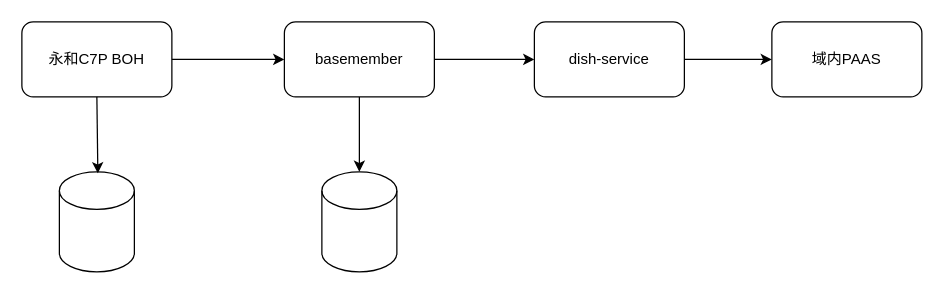
This 944x294 diagram has some shape labels left out. Here are the shapes that lost their labels. From the top down, the centre of each, then its label:
the point at 96,221: Oracle
the point at 359,221: MySQL
